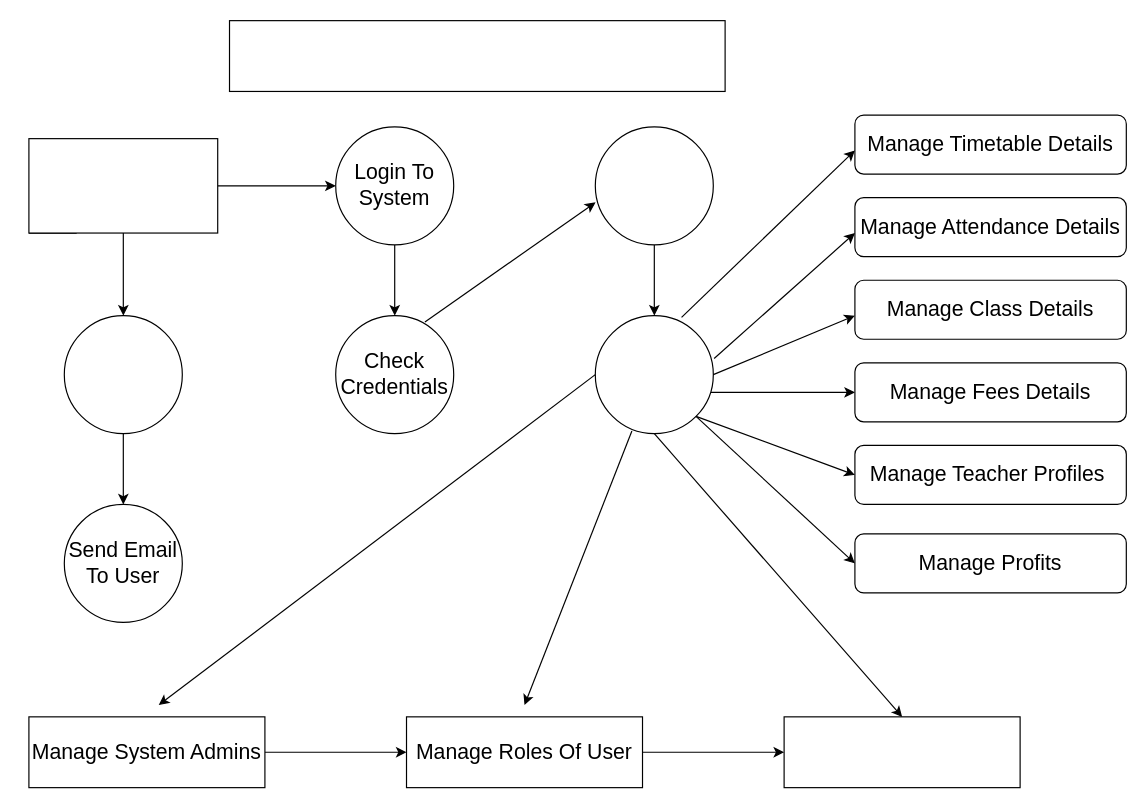
Some shapes in this 1147 by 808 pixel diagram are drawn without their labels. Here are the shapes that lost their labels. From the top down, the box of each, then its label:
(228, 19, 725, 91): STUDENT INFORMATION SYSTEM
(28, 137, 218, 233): Admin
(594, 126, 713, 245): Check Roles of Access
(63, 314, 182, 434): Forgot Password
(594, 314, 713, 434): Manage Modules
(783, 716, 1020, 788): Manage User Permission
